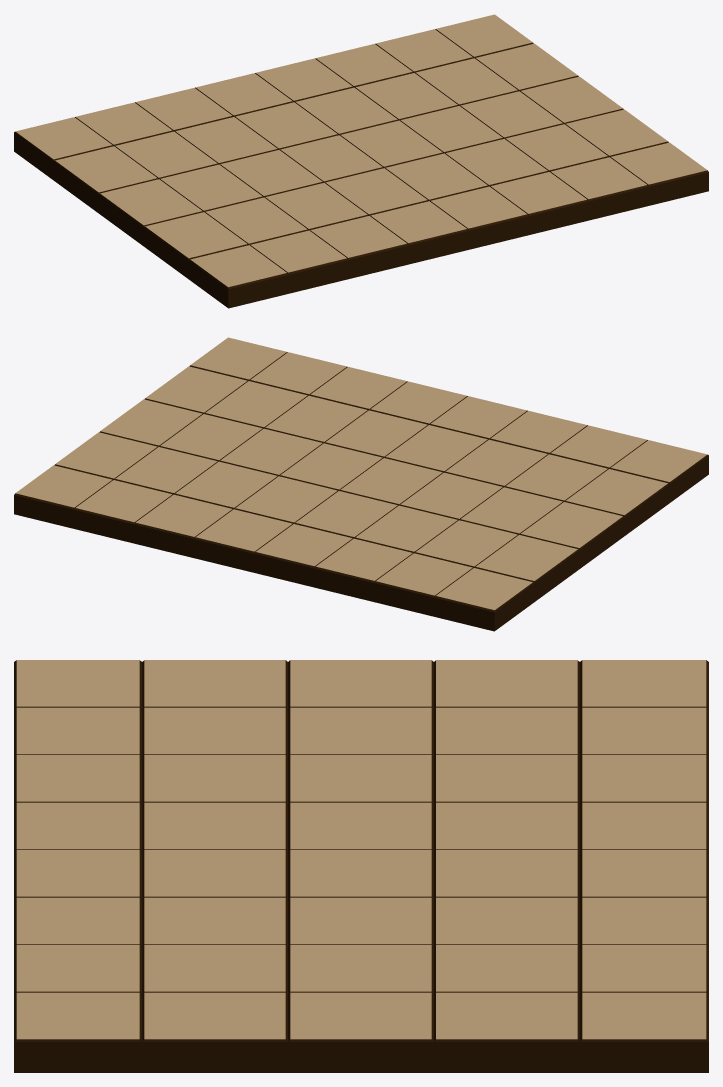
Rendered from nuevosuelo7.fbx.
3 views of the same model, one above another, from view 1: azimuth 30°, elevation 25°; view 2: azimuth 150°, elevation 25°; view 3: azimuth 270°, elevation 25° (orthographic). The views are drawn at different scales.
Visible parts, largest first — view 1: Cube.009; view 2: Cube.009; view 3: Cube.009.
Boxes of the visible parts, x1=… form: Cube.009: x1=14, y1=14, x2=708, y2=308; Cube.009: x1=14, y1=337, x2=708, y2=631; Cube.009: x1=14, y1=660, x2=708, y2=1072.
Size of the model in its own units: 7855 by 321 by 6073.
